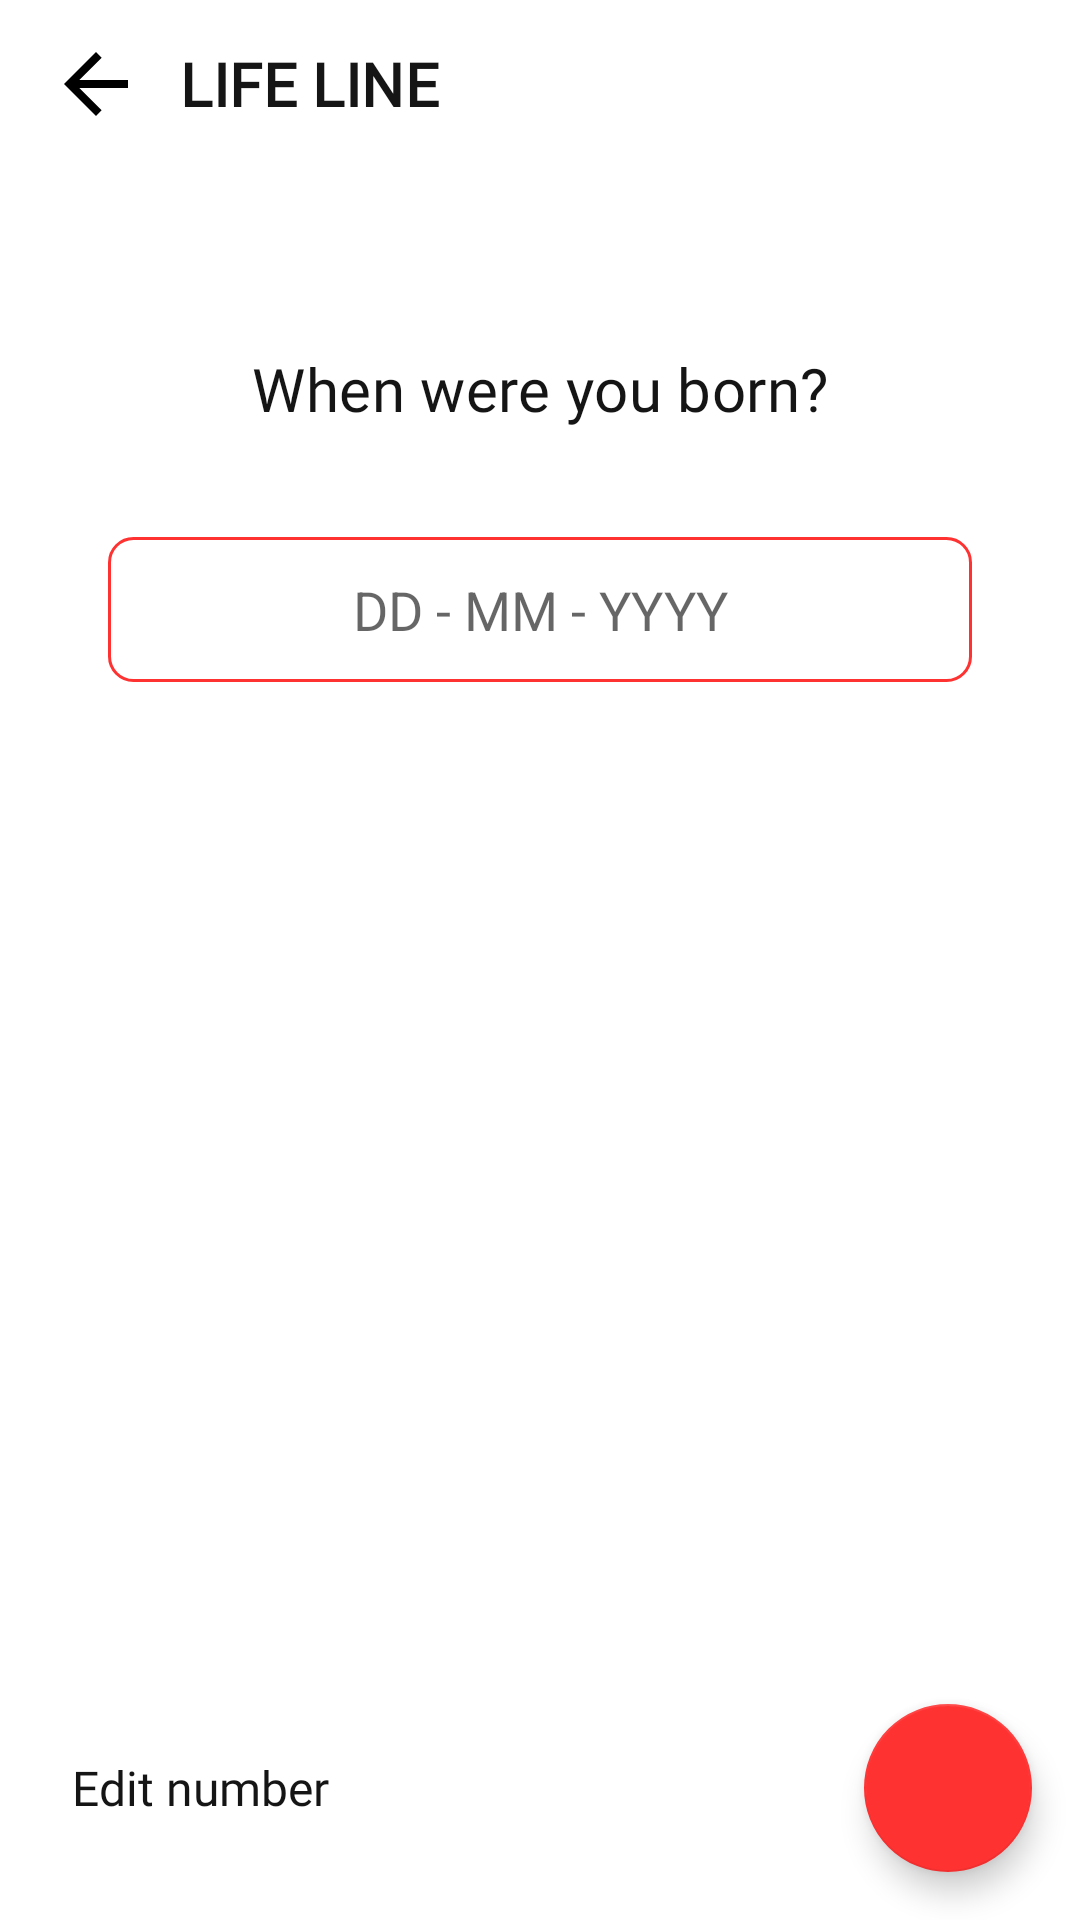

Screen size 1080 x 1920. Icon name, then its box in pixels as (x1, y1, x2, y2):
arrow back: (64, 52, 128, 116)
